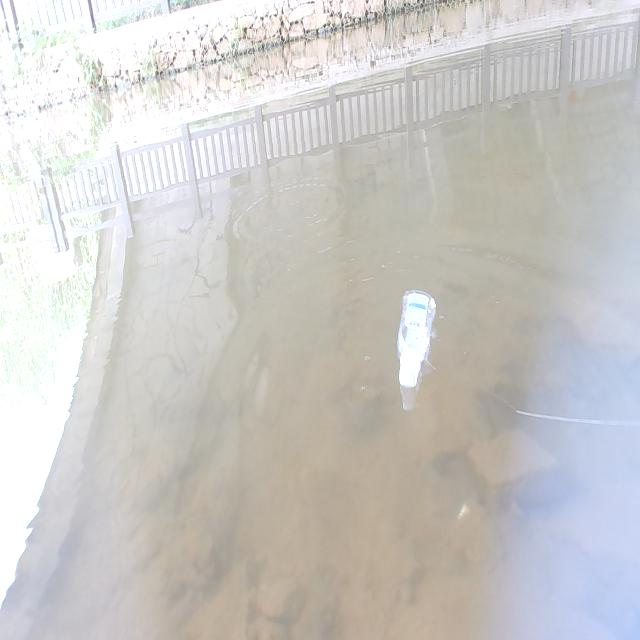bottle: (384, 257, 450, 408)
